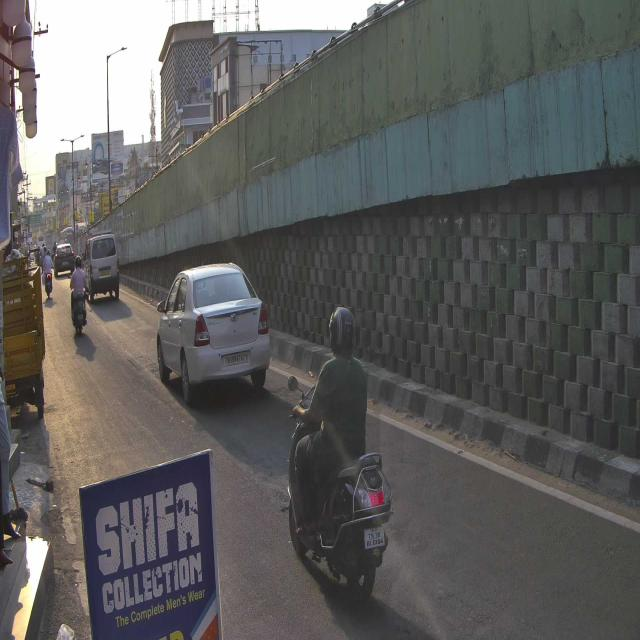single_rider: (286, 306, 396, 601)
